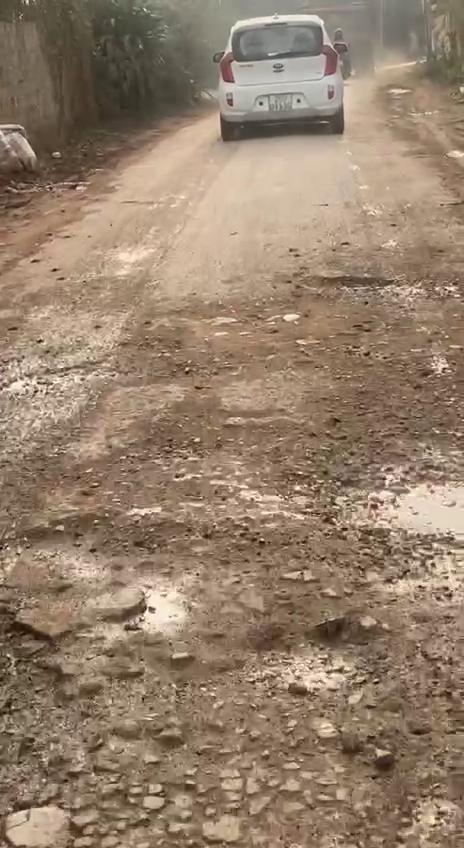pothole: (0, 508, 438, 848), (333, 442, 464, 644)
